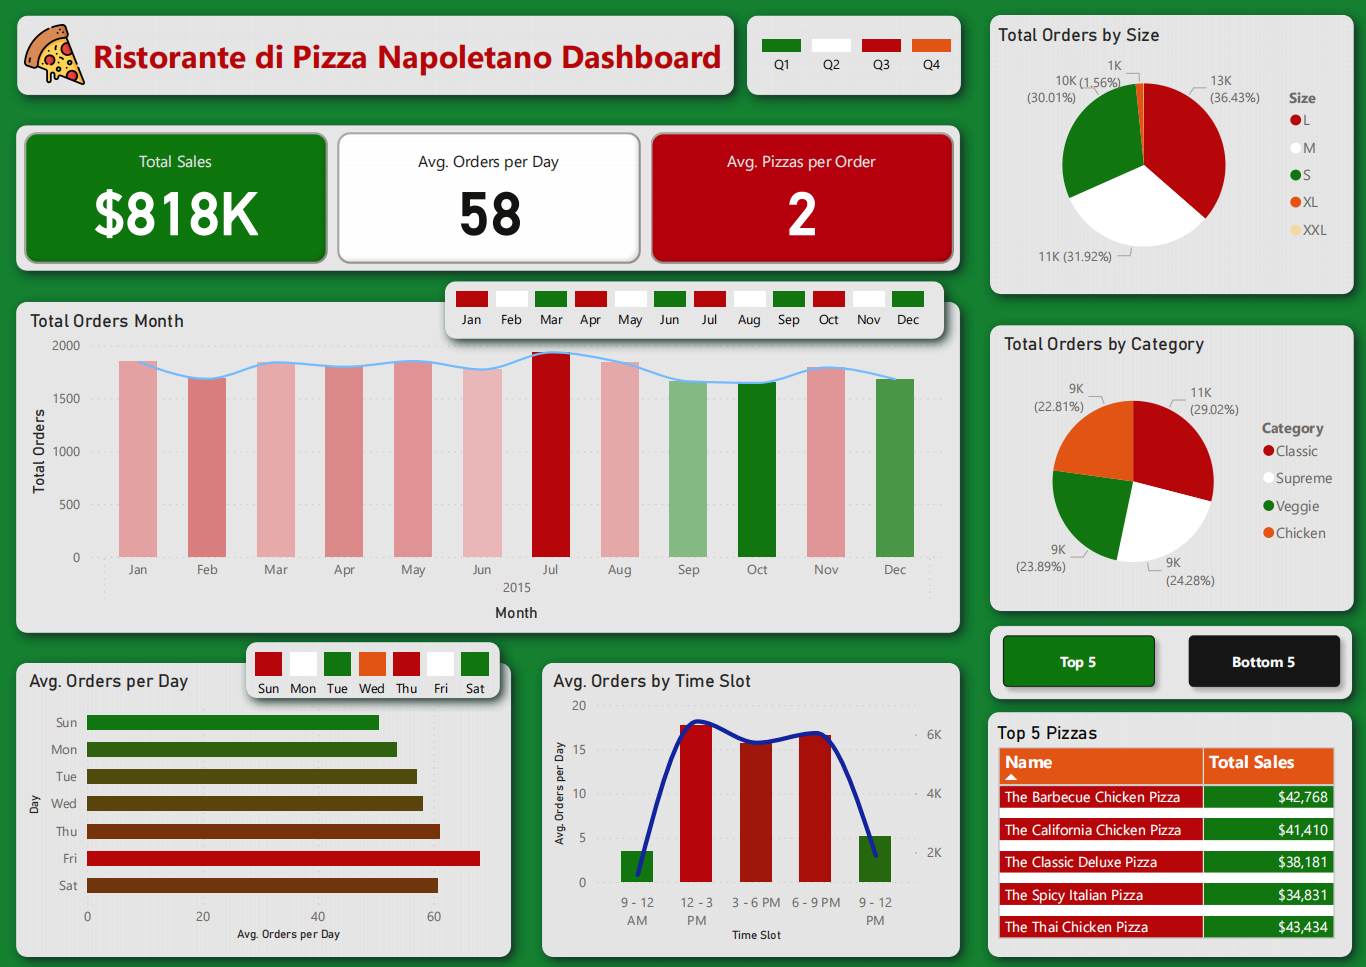

What the dashboard file says about the page in this screenshot:
{"tool":"powerbi","page":{"name":"Dashboard","canvas":[1280,900],"ordinal":0},"visuals":[{"type":"shape","box":[14,0,692,102],"z":0},{"type":"shape","box":[13.3,265,901.7,335],"z":1000},{"type":"shape","box":[13.3,600,486.7,300],"z":3000},{"type":"shape","box":[500,600,415,300],"z":4000},{"type":"shape","box":[913.3,645,365,255],"z":4500},{"type":"shape","box":[915,0,365,286.7],"z":5000},{"type":"shape","box":[915,286.7,365,293.3],"z":6000},{"type":"shape","box":[13.3,101.7,901.7,163.3],"z":7000},{"type":"cardVisual","fields":{"Data":["All Measures.Total Sales","All Measures.Avg. Orders per Day","All Measures.Avg. Pizzas per Order"]},"box":[30,118.3,871.7,131.7],"z":8000},{"type":"lineClusteredColumnComboChart","title":"Total Orders Month","fields":{"Category":["Date Table.Year","Date Table.Month"],"Y":["All Measures.Total Orders"],"Y2":["All Measures.Total Orders"]},"box":[35,286.7,855,293.3],"z":9000},{"type":"lineStackedColumnComboChart","title":"Avg. Orders by Time Slot","fields":{"Y":["All Measures.Avg. Orders per Day"],"Category":["Orders.Time Slot"],"Y2":["CountNonNull(Orders.Time Slot)"]},"box":[520,620,370,256.7],"z":10000},{"type":"clusteredBarChart","title":"Avg. Orders per Day","fields":{"Category":["Date Table.Day"],"Y":["All Measures.Avg. Orders per Day"]},"box":[33.8,620,445,256.2],"z":11000},{"type":"tableEx","title":"Top 5 Pizzas ","fields":{"Values":["Pizza Type.Name","All Measures.Total Sales"]},"box":[931,667.5,330.3,209],"z":12000},{"type":"pieChart","fields":{"Y":["All Measures.Total Orders"],"Category":["Pizzas.Size"]},"box":[931.7,21.7,325,243.3],"z":14000},{"type":"pieChart","fields":{"Category":["Pizza Type.Category"],"Y":["All Measures.Total Orders"]},"box":[936.7,308.3,325,256.7],"z":15000},{"type":"shape","box":[915,565,363.3,96.7],"z":16000},{"type":"bookmarkNavigator","box":[931.7,580,330,65],"z":17000},{"type":"shape","box":[690,0,226,102],"z":18000},{"type":"columnChart","fields":{"Category":["Date Table.Quarter"],"Series":["Date Table.Quarter"],"Y":["Date Table.X axis"]},"box":[690,22,223,61],"z":19000},{"type":"shape","box":[410,246.2,491.2,81.2],"z":20000},{"type":"columnChart","fields":{"Y":["Date Table.X axis"],"Category":["Date Table.Month"],"Series":["Date Table.Month"]},"box":[410,256.2,473.8,62.5],"z":21000},{"type":"shape","box":[226.2,580,262.5,81.2],"z":22000},{"type":"columnChart","fields":{"Y":["Date Table.X axis"],"Category":["Date Table.Day"],"Series":["Date Table.Day"]},"box":[226.2,590,252.5,71.2],"z":23000},{"type":"image","box":[30.5,7.3,64.6,86.6],"z":24000}]}

Visuals, with their boxes in screenshot pixels (x1, y1, x2, y2), scaled from the page's 1280x900 canvas onto the 1366x967 screenshot:
shape: locate(15, 0, 753, 110)
shape: locate(14, 285, 976, 645)
shape: locate(14, 645, 534, 966)
shape: locate(534, 645, 976, 966)
shape: locate(975, 693, 1364, 966)
shape: locate(976, 0, 1365, 308)
shape: locate(976, 308, 1365, 623)
shape: locate(14, 109, 976, 285)
cardVisual - All Measures.Total Sales x All Measures.Avg. Orders per Day: locate(32, 127, 962, 269)
"Total Orders Month" lineClusteredColumnComboChart: locate(37, 308, 950, 623)
"Avg. Orders by Time Slot" lineStackedColumnComboChart: locate(555, 666, 950, 942)
"Avg. Orders per Day" clusteredBarChart: locate(36, 666, 511, 941)
"Top 5 Pizzas " tableEx: locate(994, 717, 1346, 942)
pieChart - All Measures.Total Orders x Pizzas.Size: locate(994, 23, 1341, 285)
pieChart - Pizza Type.Category x All Measures.Total Orders: locate(1000, 331, 1346, 607)
shape: locate(976, 607, 1364, 711)
bookmarkNavigator: locate(994, 623, 1346, 693)
shape: locate(736, 0, 978, 110)
columnChart - Date Table.Quarter x Date Table.Quarter: locate(736, 24, 974, 89)
shape: locate(438, 265, 962, 352)
columnChart - Date Table.X axis x Date Table.Month: locate(438, 275, 943, 342)
shape: locate(241, 623, 522, 710)
columnChart - Date Table.X axis x Date Table.Day: locate(241, 634, 511, 710)
image: locate(33, 8, 101, 101)
